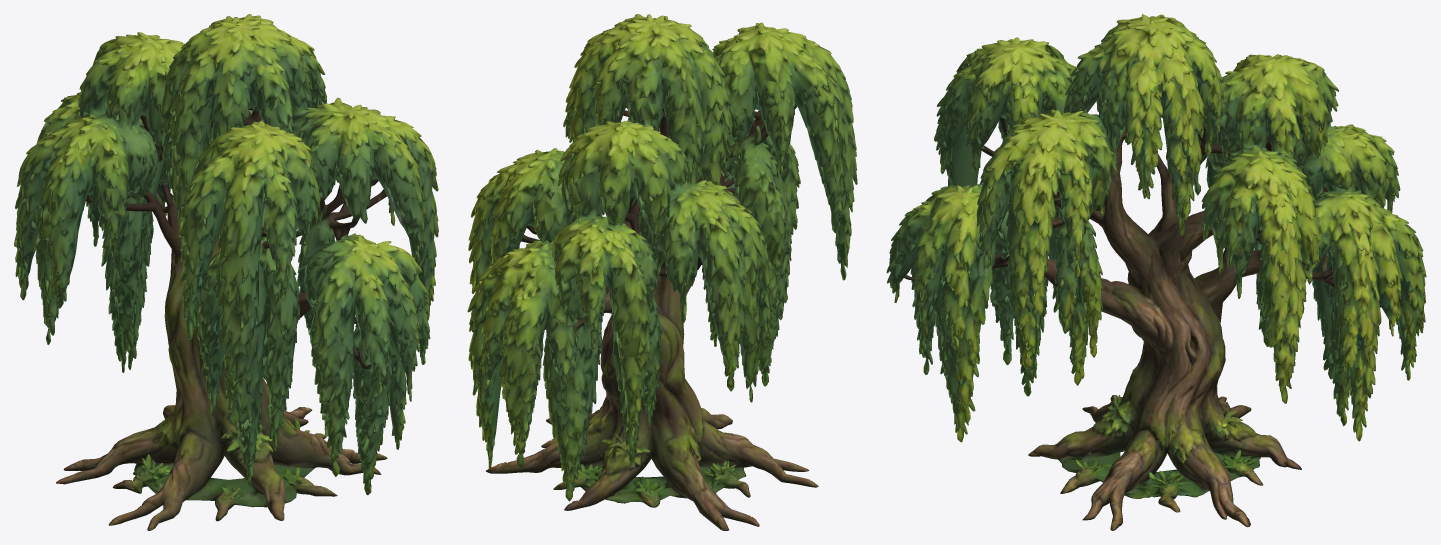
Rendered from willow.glb.
3 views of the same model, side by side, from view 1: azimuth 30°, elevation 25°; view 2: azimuth 150°, elevation 25°; view 3: azimuth 270°, elevation 25° (orthographic). The views are drawn at different scales.
Parts seen in each view (by area): view 1: tripo_node_3a27c120-f8a9-4330-a92c-a9a9ad2d97b3; view 2: tripo_node_3a27c120-f8a9-4330-a92c-a9a9ad2d97b3; view 3: tripo_node_3a27c120-f8a9-4330-a92c-a9a9ad2d97b3.
Part boxes in pixels (x1,y1,x2,y2): tripo_node_3a27c120-f8a9-4330-a92c-a9a9ad2d97b3: (14, 14, 438, 530); tripo_node_3a27c120-f8a9-4330-a92c-a9a9ad2d97b3: (467, 14, 857, 530); tripo_node_3a27c120-f8a9-4330-a92c-a9a9ad2d97b3: (886, 14, 1426, 530).
Bounding box in the file's own units: 0.6131 × 0.8979 × 0.9804.
Materials: 1 (1 with a texture image).
